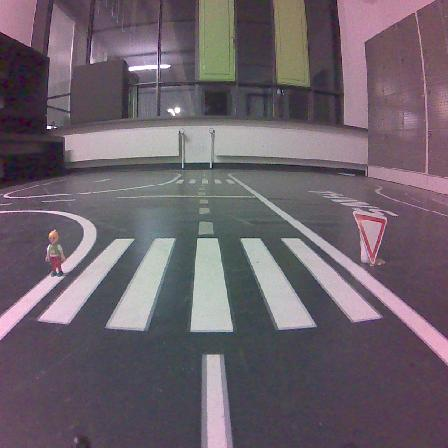CHILD: (46, 230, 65, 276)
GIVE_WAY: (353, 211, 386, 264)
